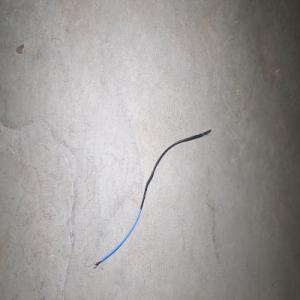Wire: (93, 129, 211, 268)
